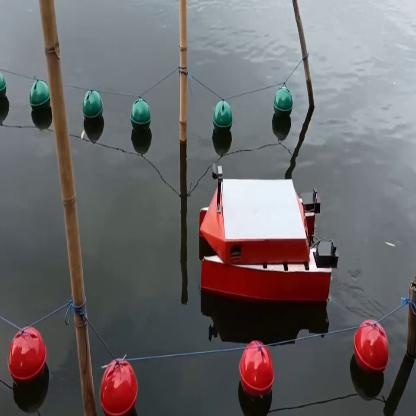green_buoy: (128, 98, 152, 137), (212, 98, 235, 138), (82, 91, 103, 127), (272, 88, 294, 122), (30, 82, 50, 114), (0, 72, 6, 110)
red_buoy: (97, 358, 142, 414), (10, 326, 48, 390), (354, 319, 389, 384), (239, 342, 275, 402)
